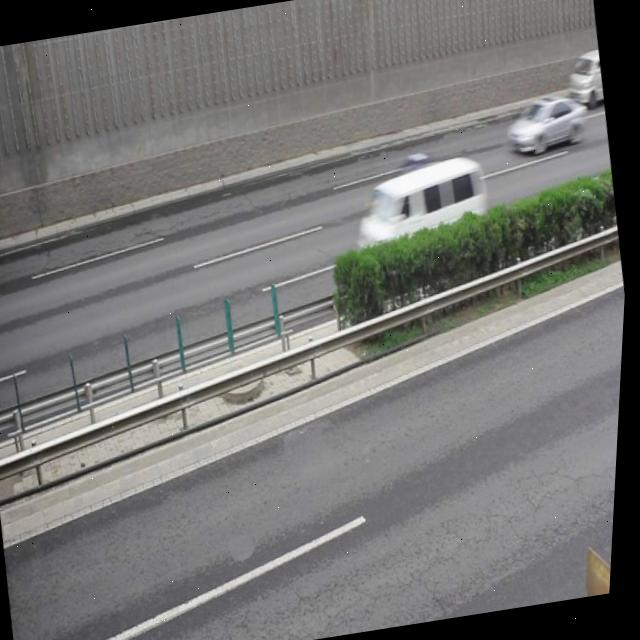car: (361, 154, 471, 238), (499, 89, 587, 160)
truck: (345, 154, 501, 292)
